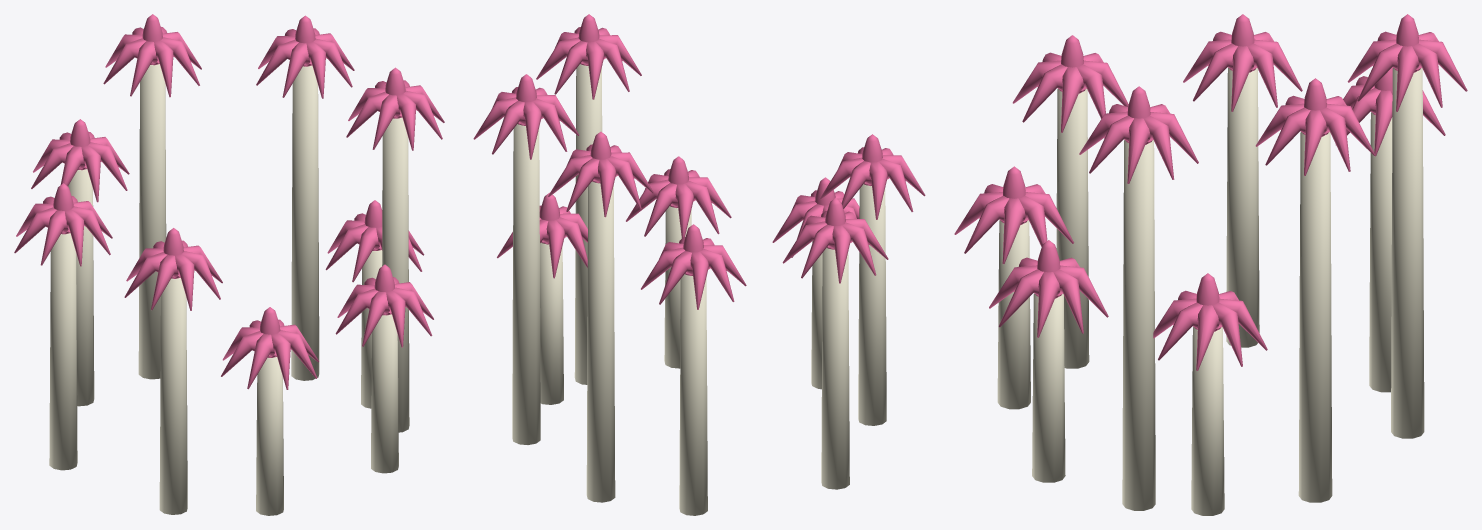
The model's file is underwater-reef-worlds-tube-worms-096f75c2__7024.glb.
The picture shows the model from 3 angles, left to right: view 1: azimuth 30°, elevation 25°; view 2: azimuth 150°, elevation 25°; view 3: azimuth 270°, elevation 25°; orthographic projection. The views are drawn at different scales.
Parts seen in each view (by area): view 1: tube-worms; view 2: tube-worms; view 3: tube-worms.
Boxes of the visible parts, bbox=[...] form: tube-worms: bbox=[14, 14, 444, 515]; tube-worms: bbox=[473, 14, 925, 515]; tube-worms: bbox=[954, 14, 1467, 515].
Size of the model in its own units: 0.7748 by 0.69 by 0.7679.
